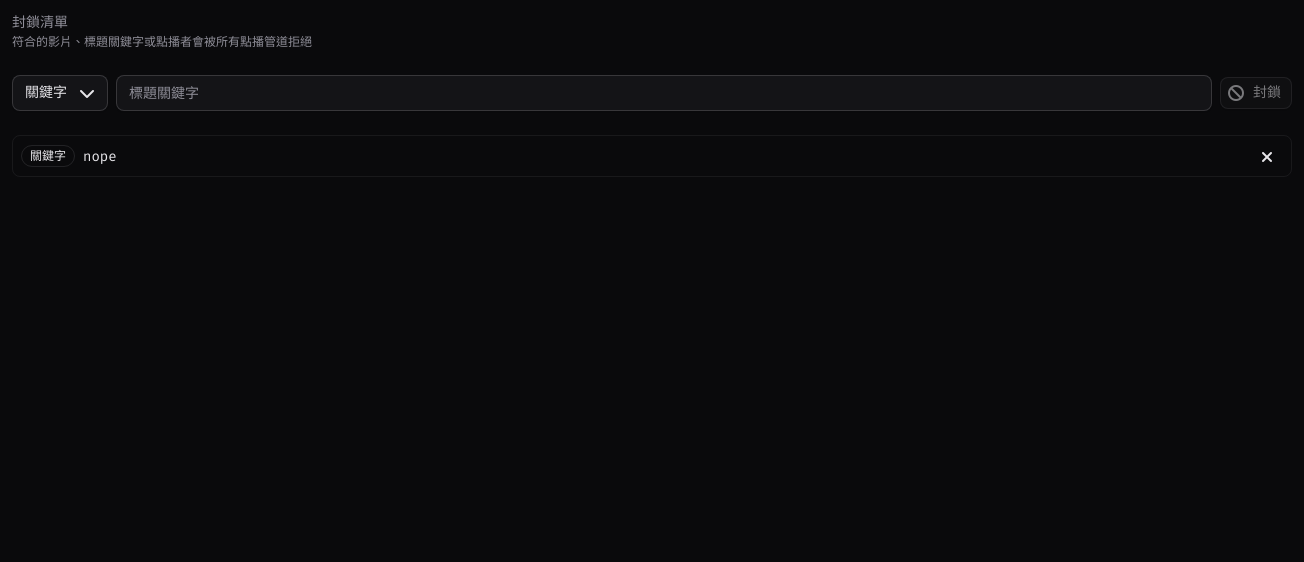
BlocklistSection › removes a rule optimistically
This screenshot has width=1304, height=562.
expect the text "nope" is shown: met, box [83, 146, 117, 166]
Click the button named "移除".
click(1267, 156)  # box [1251, 140, 1283, 172]
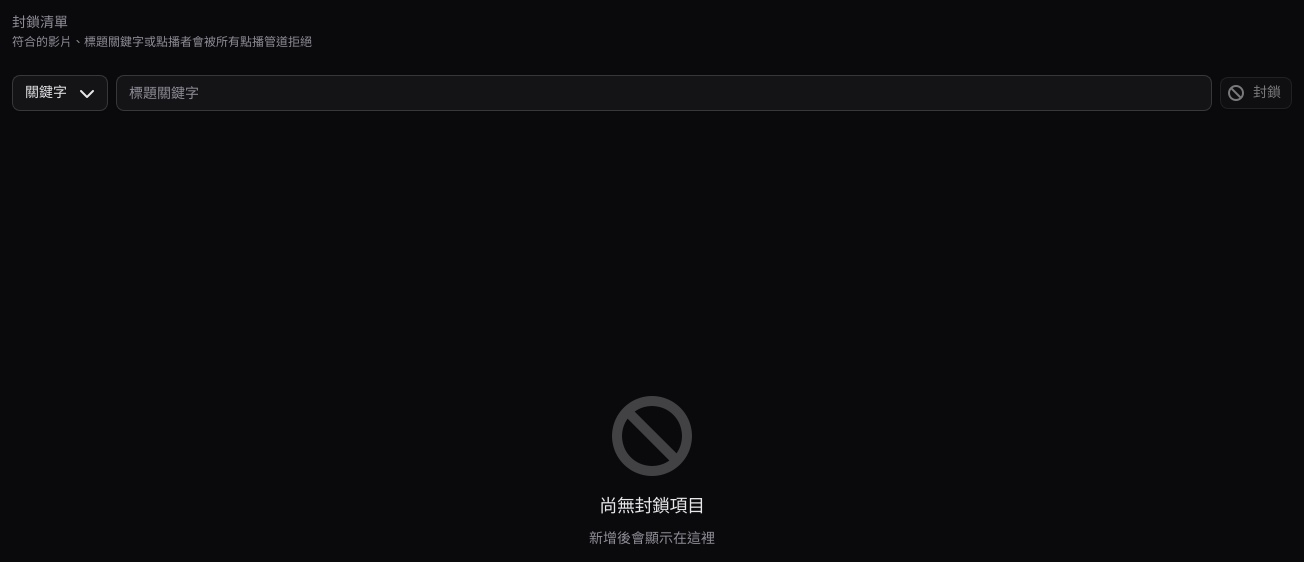
expect the text "nope" is gone: met
